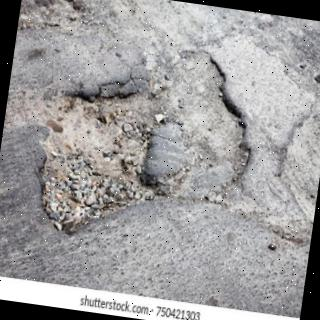pothole: (39, 49, 252, 236), (280, 102, 320, 222), (21, 0, 87, 33)
